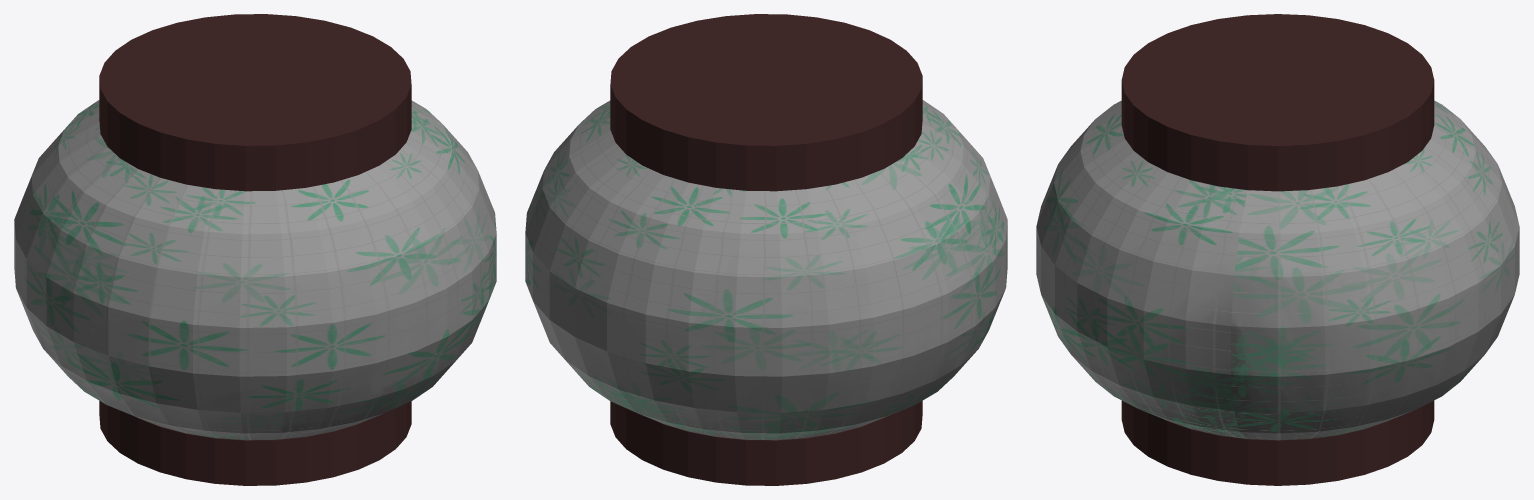
File: lantern.fbx
3 renders of one model, left to right at view 1: azimuth 30°, elevation 25°; view 2: azimuth 150°, elevation 25°; view 3: azimuth 270°, elevation 25°, orthographic.
Visible parts, largest first — view 1: lantern mid, lantern top, lantern bottom; view 2: lantern mid, lantern top, lantern bottom; view 3: lantern mid, lantern top, lantern bottom.
Part boxes in pixels (x1,y1,x2,y2): lantern mid: (14,100,496,440); lantern top: (99,14,411,191); lantern bottom: (99,401,411,485); lantern mid: (525,100,1007,440); lantern top: (610,14,922,191); lantern bottom: (610,401,922,485); lantern mid: (1036,100,1519,440); lantern top: (1121,14,1434,191); lantern bottom: (1121,400,1434,485).
Size of the model in its own units: 291 by 226 by 291.
